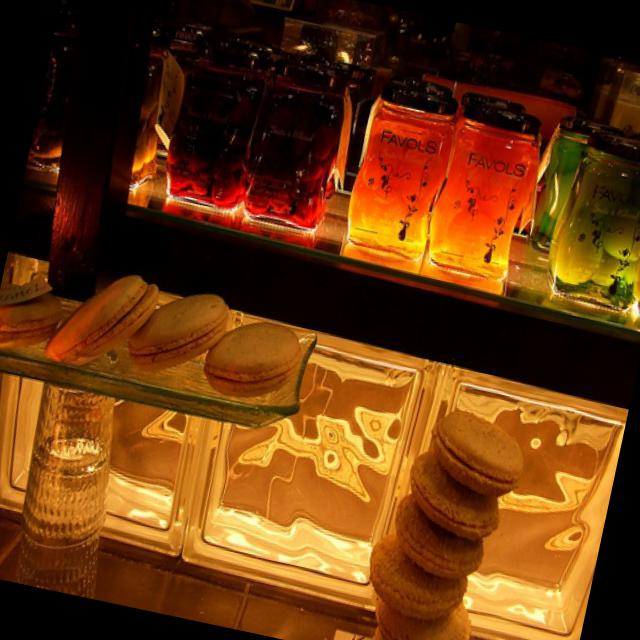cookie jar: (46, 274, 159, 364), (127, 290, 230, 366), (201, 318, 299, 395)
cookies: (368, 408, 519, 640), (0, 275, 57, 341)
jar -X: (427, 93, 539, 278), (344, 81, 455, 257), (165, 34, 271, 210), (240, 55, 343, 230), (544, 123, 640, 309)
jar of beans: (527, 117, 596, 252)
tray occluded: (0, 283, 315, 425)
